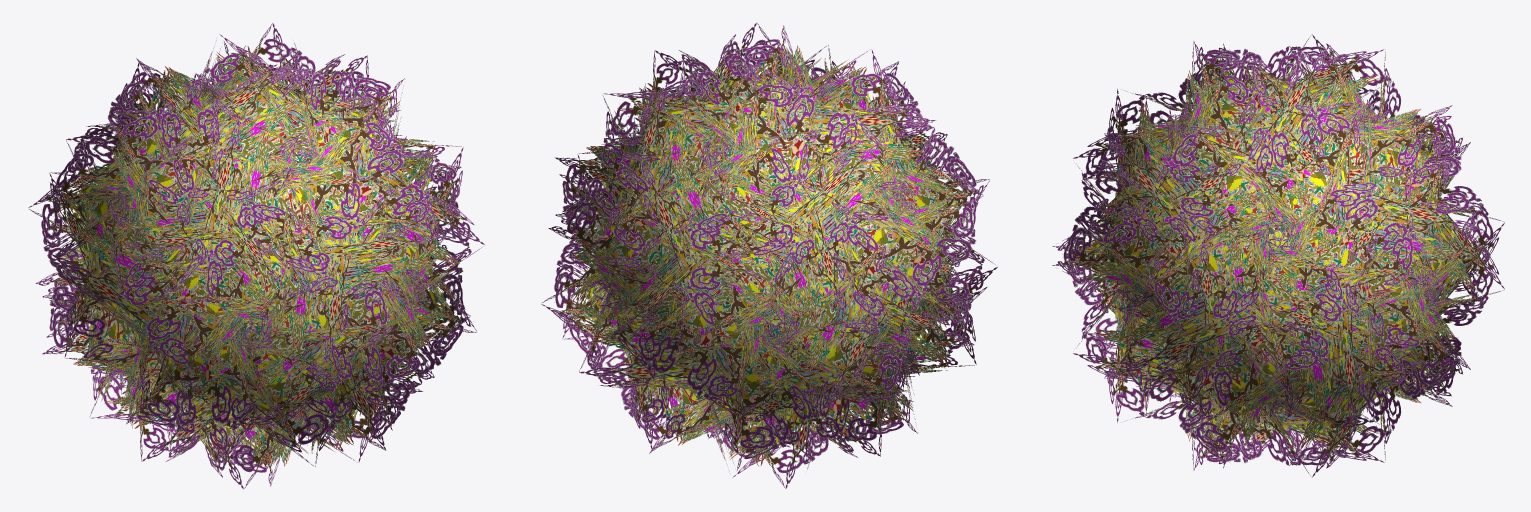
Rendered from GreatInvertedPentagonalHexecontahedron3.gltf.
3 views of the same model, side by side, from view 1: azimuth 30°, elevation 25°; view 2: azimuth 150°, elevation 25°; view 3: azimuth 270°, elevation 25° (orthographic).
Parts seen in each view (by area): view 1: GreatInvertedPentagonalHexecontahedron3; view 2: GreatInvertedPentagonalHexecontahedron3; view 3: GreatInvertedPentagonalHexecontahedron3.
Part boxes in pixels (left/top/right/bottom): GreatInvertedPentagonalHexecontahedron3: left=28, top=23, right=484, bottom=489; GreatInvertedPentagonalHexecontahedron3: left=541, top=22, right=997, bottom=488; GreatInvertedPentagonalHexecontahedron3: left=1052, top=34, right=1504, bottom=477.
Bounding box in the file's own units: 1.13 × 1.13 × 1.13.
Materials: 1 (1 with a texture image).
